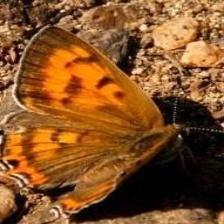butterfly: (0, 26, 180, 214)
